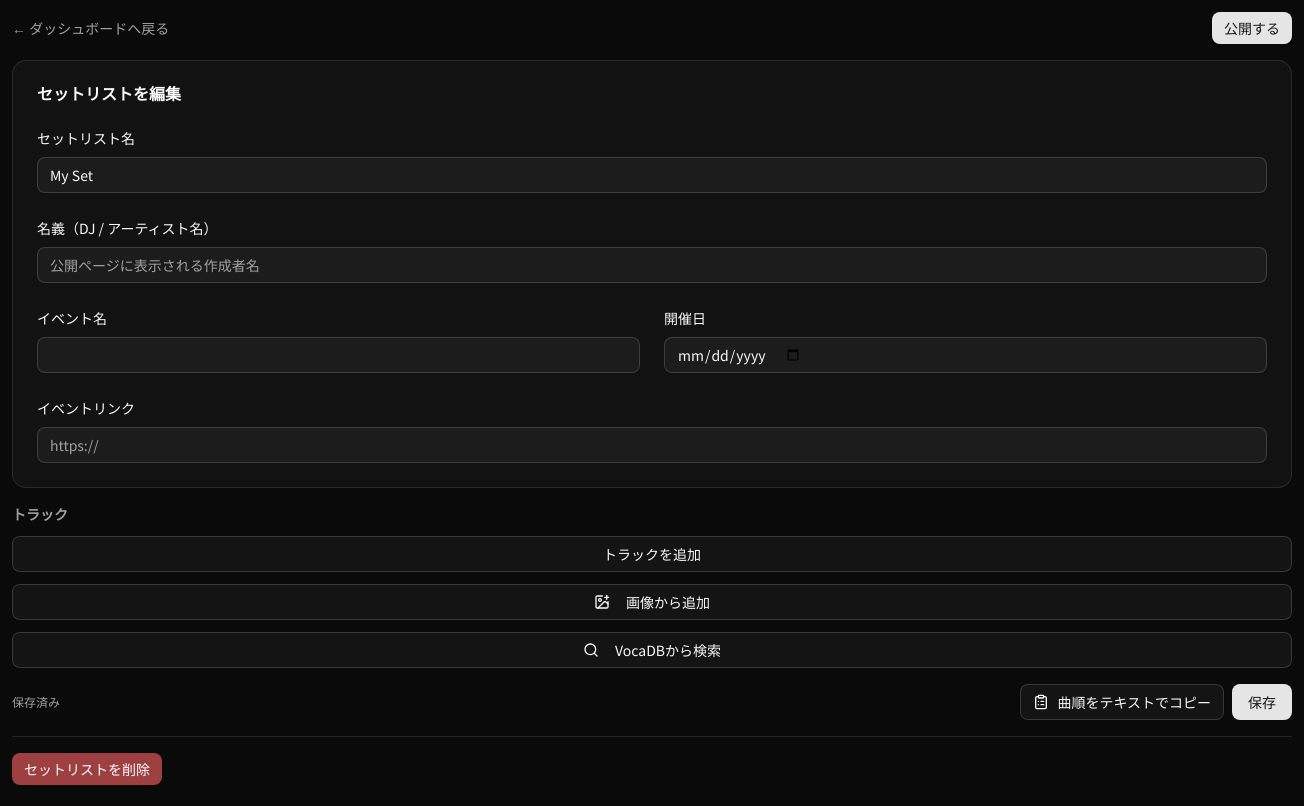
Test case: SetlistEditor › saves then publishes and shows a success toast
Expected: the field labelled "セットリスト名" is shown, [37,157,1267,193]
Click the button "公開する": coordinates (1252, 28) [1212,12,1292,44]
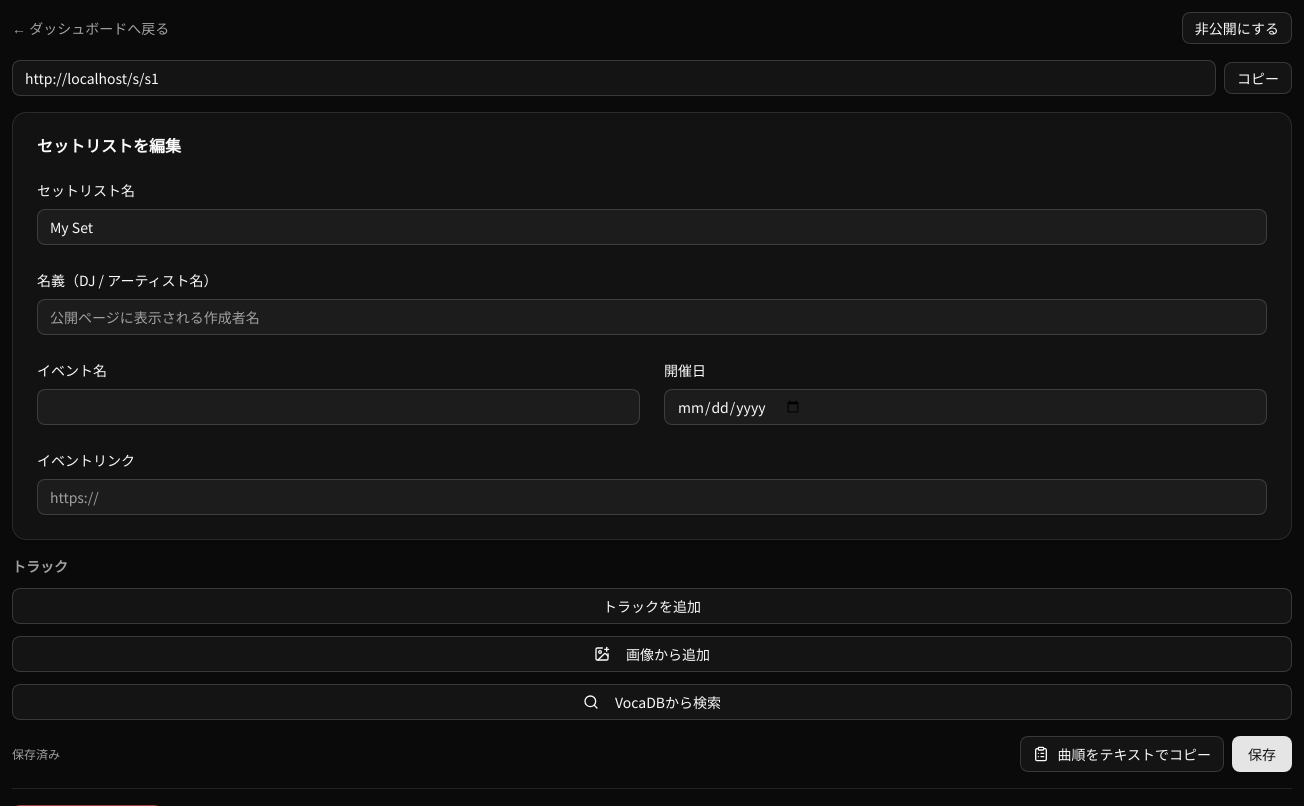
Now the field named "公開URL" is shown, box [12,60,1216,96]
Now the button "非公開にする" is shown, box [1182,12,1292,44]
